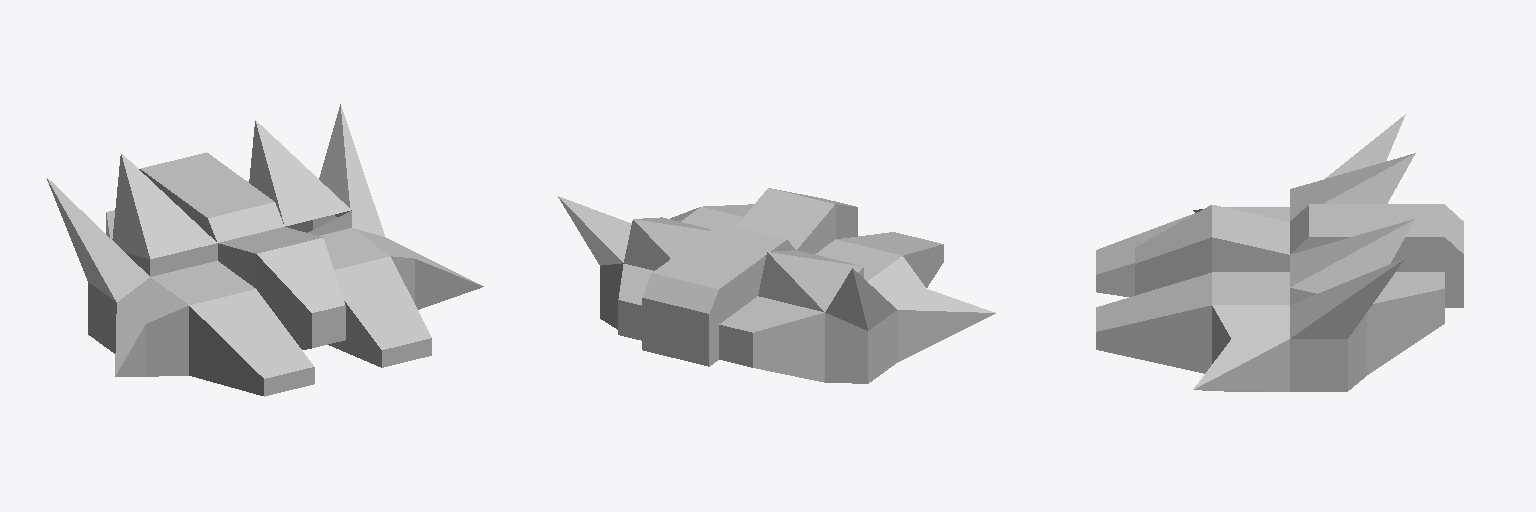
The picture shows the model from 3 angles: view 1: azimuth 30°, elevation 25°; view 2: azimuth 150°, elevation 25°; view 3: azimuth 270°, elevation 25°; orthographic projection.
Visible parts, largest first — view 1: Box01_sep10; view 2: Box01_sep10; view 3: Box01_sep10.
Boxes of the visible parts, <box> form: Box01_sep10: <box>46,104,483,396</box>; Box01_sep10: <box>558,188,995,383</box>; Box01_sep10: <box>1096,114,1463,391</box>.
Bounding box in the file's own units: 22 × 8 × 19.